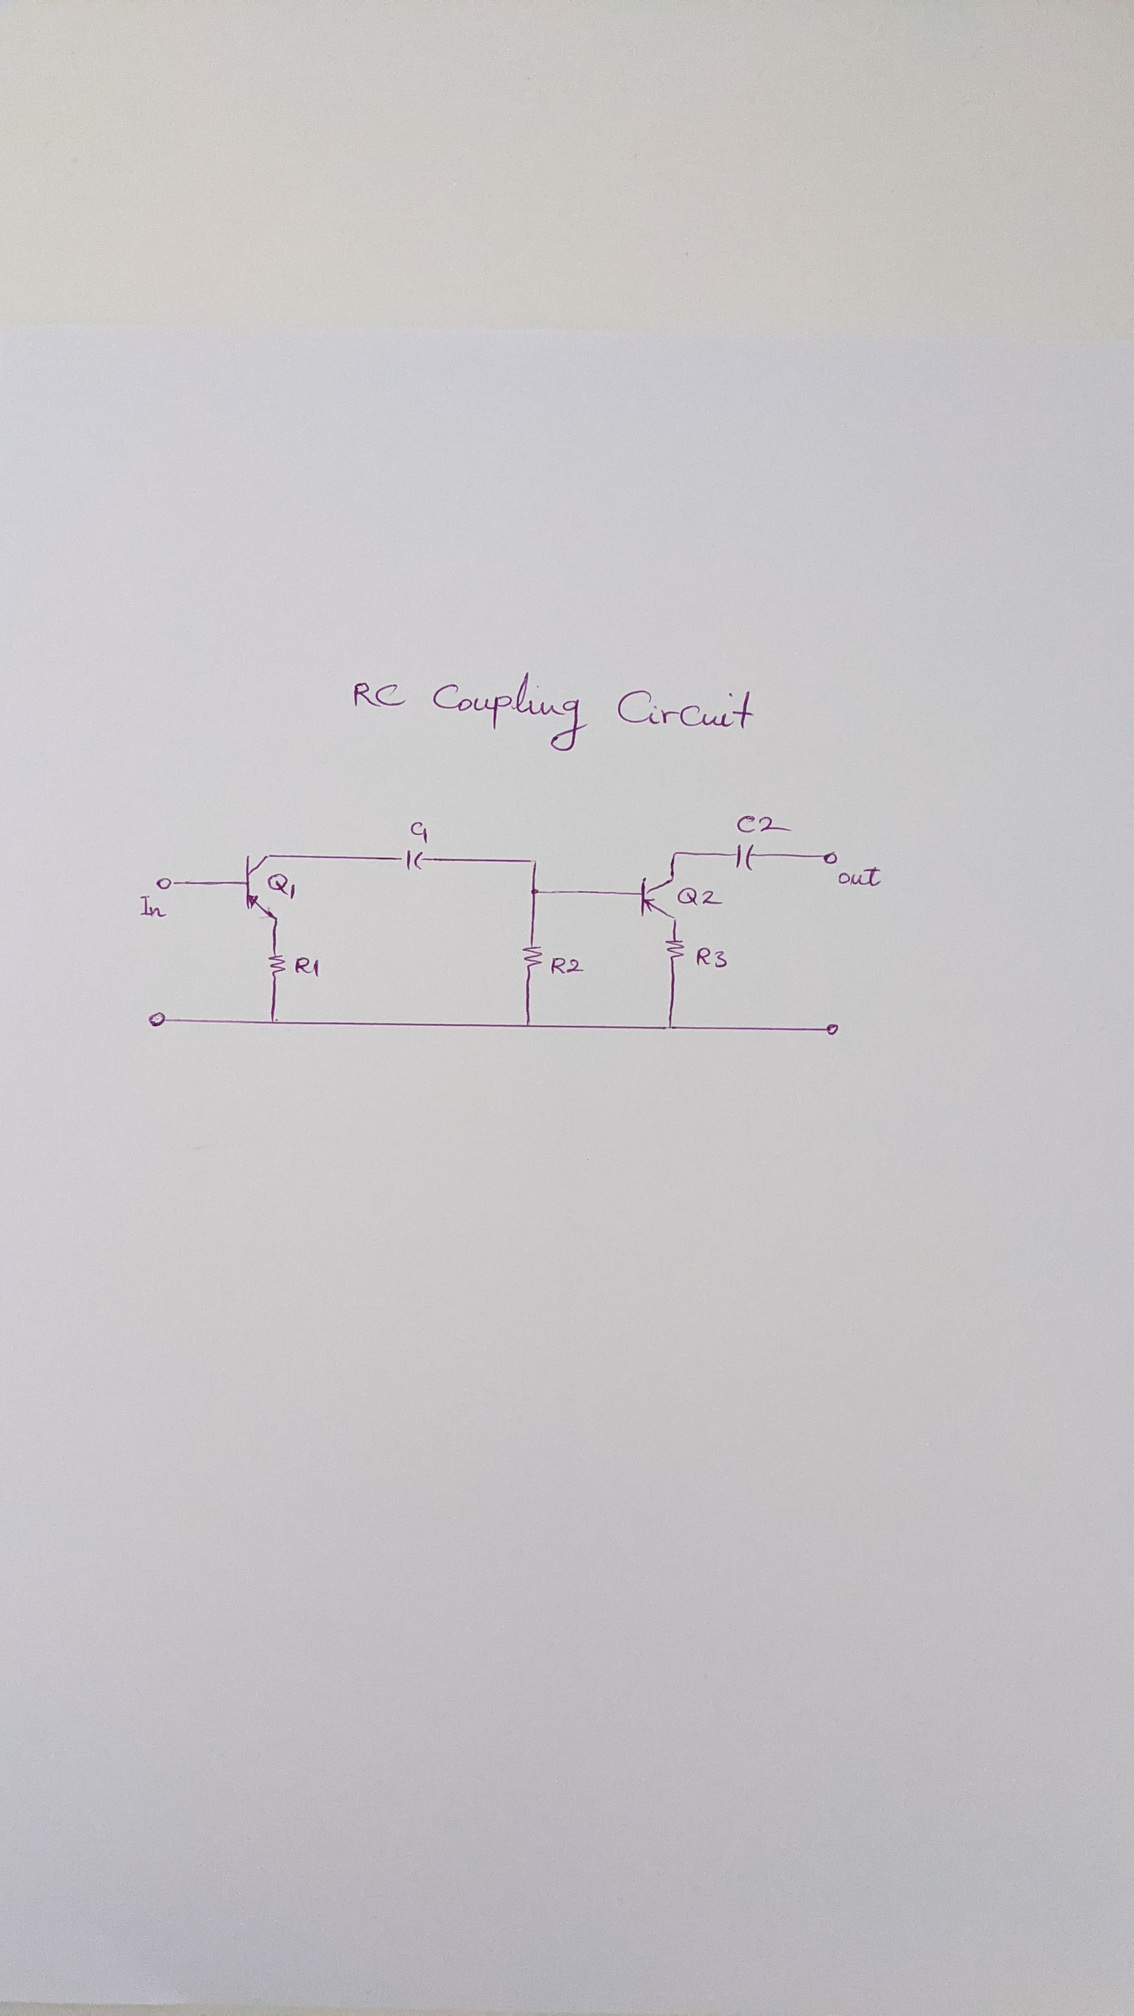capacitor.unpolarized: (730, 840, 757, 872), (399, 847, 432, 874)
junction: (269, 1015, 280, 1027), (523, 1019, 534, 1032), (663, 1022, 677, 1032), (670, 849, 681, 858), (529, 886, 540, 896), (528, 857, 540, 865)
resistor: (521, 942, 546, 973), (266, 948, 288, 980), (663, 936, 687, 965)
terminal: (147, 1009, 168, 1027), (155, 876, 177, 892), (821, 849, 840, 865), (825, 1020, 840, 1037)
text: (352, 667, 755, 755), (735, 813, 793, 836), (836, 864, 883, 889), (676, 885, 723, 908), (264, 871, 299, 901), (695, 944, 728, 971), (138, 893, 168, 919), (294, 955, 323, 980), (548, 955, 586, 975), (408, 820, 431, 845)
transistor: (242, 852, 282, 924), (638, 871, 681, 924)
